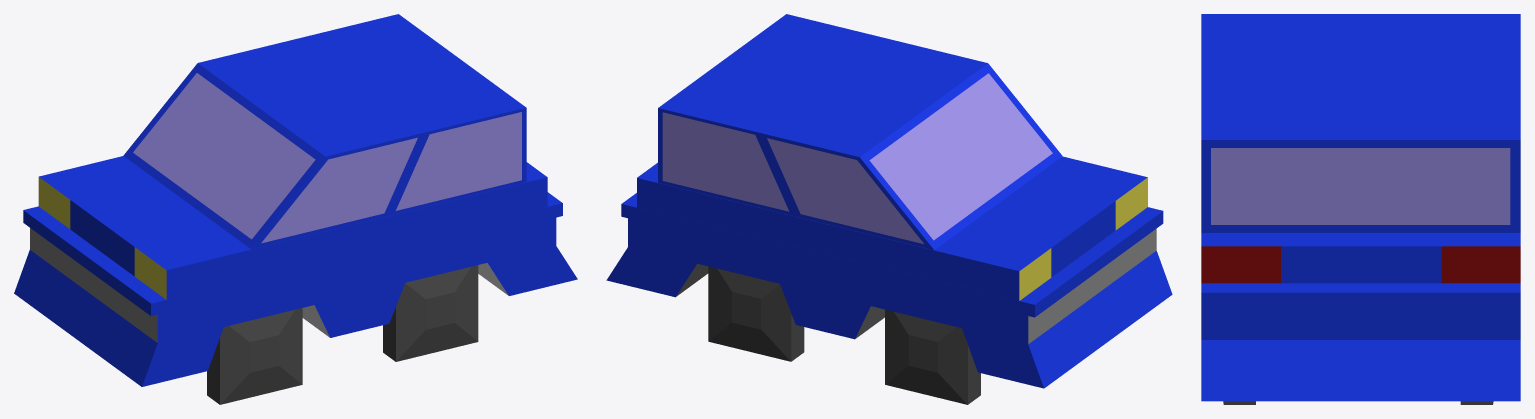
The model's file is car_blue.glb.
3 renders of one model, left to right at view 1: azimuth 30°, elevation 25°; view 2: azimuth 150°, elevation 25°; view 3: azimuth 270°, elevation 25°, orthographic. The views are drawn at different scales.
Parts seen in each view (by area): view 1: Top, Chassis, Doors, Middle, Tire1.003, Tire1.001; view 2: Top, Chassis, Doors, Middle, Tire1.002, Tire1; view 3: Top, Chassis, Doors, Middle.
Boxes of the visible parts, x1=… form: Top: x1=123, y1=14, x2=526, y2=249; Chassis: x1=14, y1=217, x2=577, y2=386; Doors: x1=38, y1=156, x2=547, y2=299; Middle: x1=23, y1=192, x2=562, y2=316; Tire1.003: x1=207, y1=308, x2=302, y2=404; Tire1.001: x1=383, y1=265, x2=478, y2=361; Top: x1=658, y1=14, x2=1062, y2=250; Chassis: x1=606, y1=218, x2=1172, y2=388; Doors: x1=637, y1=156, x2=1147, y2=300; Middle: x1=621, y1=193, x2=1163, y2=317; Tire1.002: x1=885, y1=309, x2=980, y2=404; Tire1: x1=708, y1=266, x2=804, y2=361; Top: x1=1201, y1=17, x2=1520, y2=232; Chassis: x1=1201, y1=308, x2=1520, y2=401; Doors: x1=1201, y1=14, x2=1520, y2=283; Middle: x1=1201, y1=283, x2=1520, y2=308.
Size of the model in its own units: 10.57 by 5.36 by 5.37.
